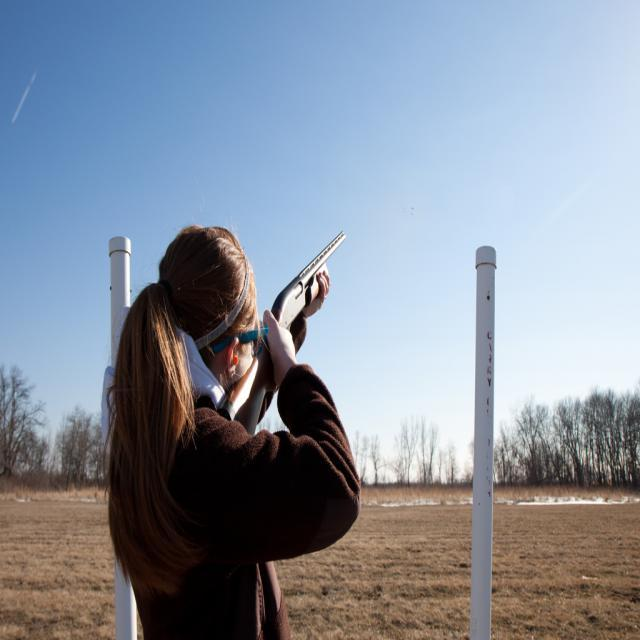weapon: (220, 230, 346, 436)
